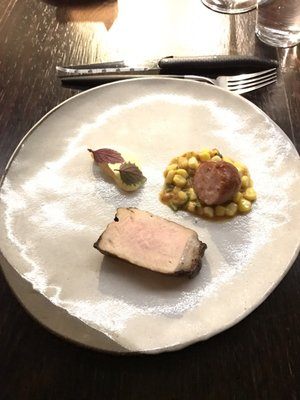burger: (57, 57, 280, 96)
pizza: (255, 0, 300, 48)
